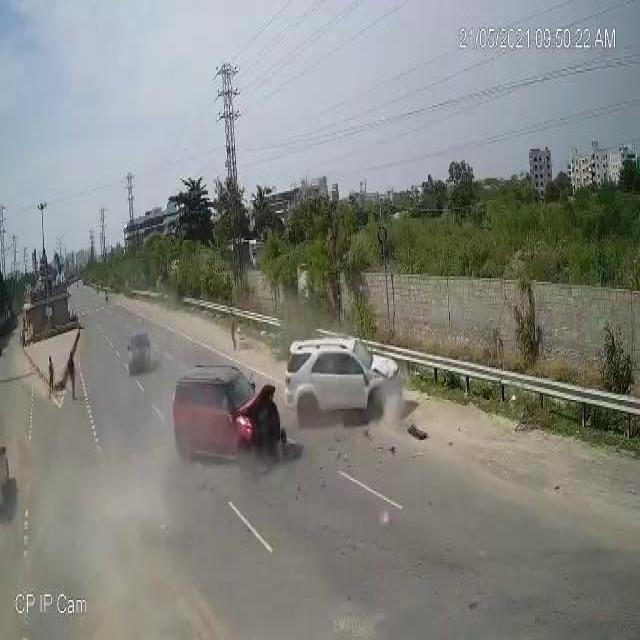accident: (160, 313, 429, 489)
